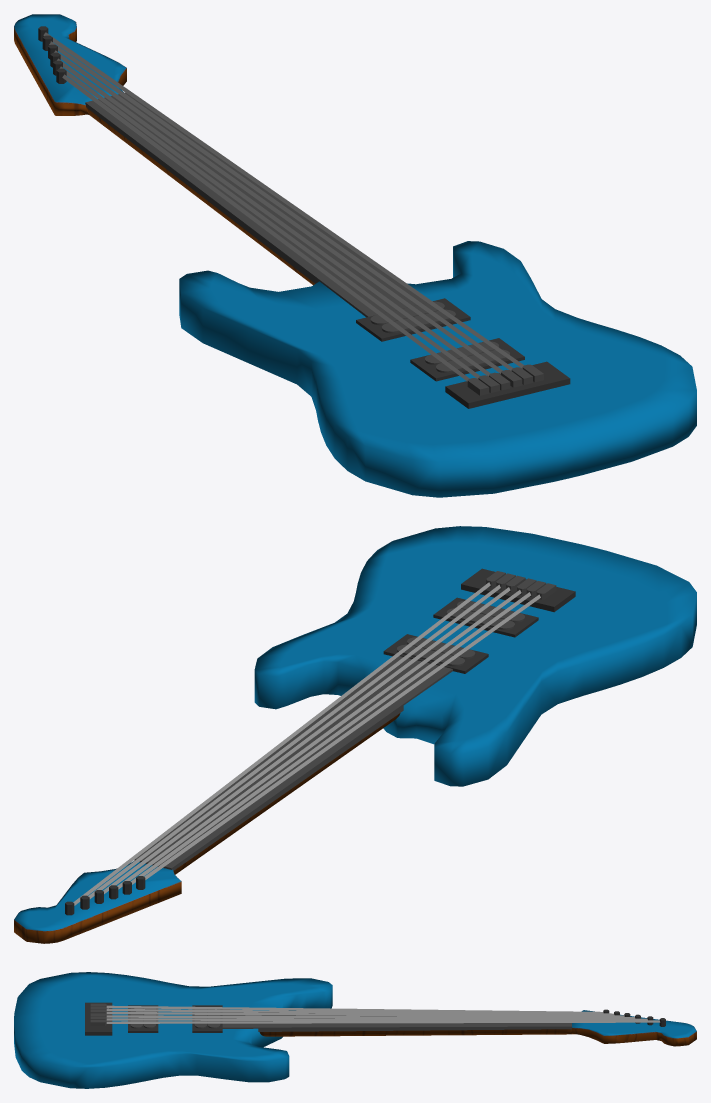
The model's file is Guitar.fbx.
The picture shows the model from 3 angles, top to bottom: view 1: azimuth 30°, elevation 25°; view 2: azimuth 150°, elevation 25°; view 3: azimuth 270°, elevation 25°; orthographic projection. The views are drawn at different scales.
Visible parts, largest first — view 1: Guitar1; view 2: Guitar1; view 3: Guitar1.
Boxes of the visible parts, x1,y1,x2,y2 form: Guitar1: (14, 14, 696, 497); Guitar1: (14, 526, 696, 943); Guitar1: (14, 972, 696, 1088).
Bounding box in the file's own units: 35.39 × 4.85 × 107.
1 material, 1 textured.
